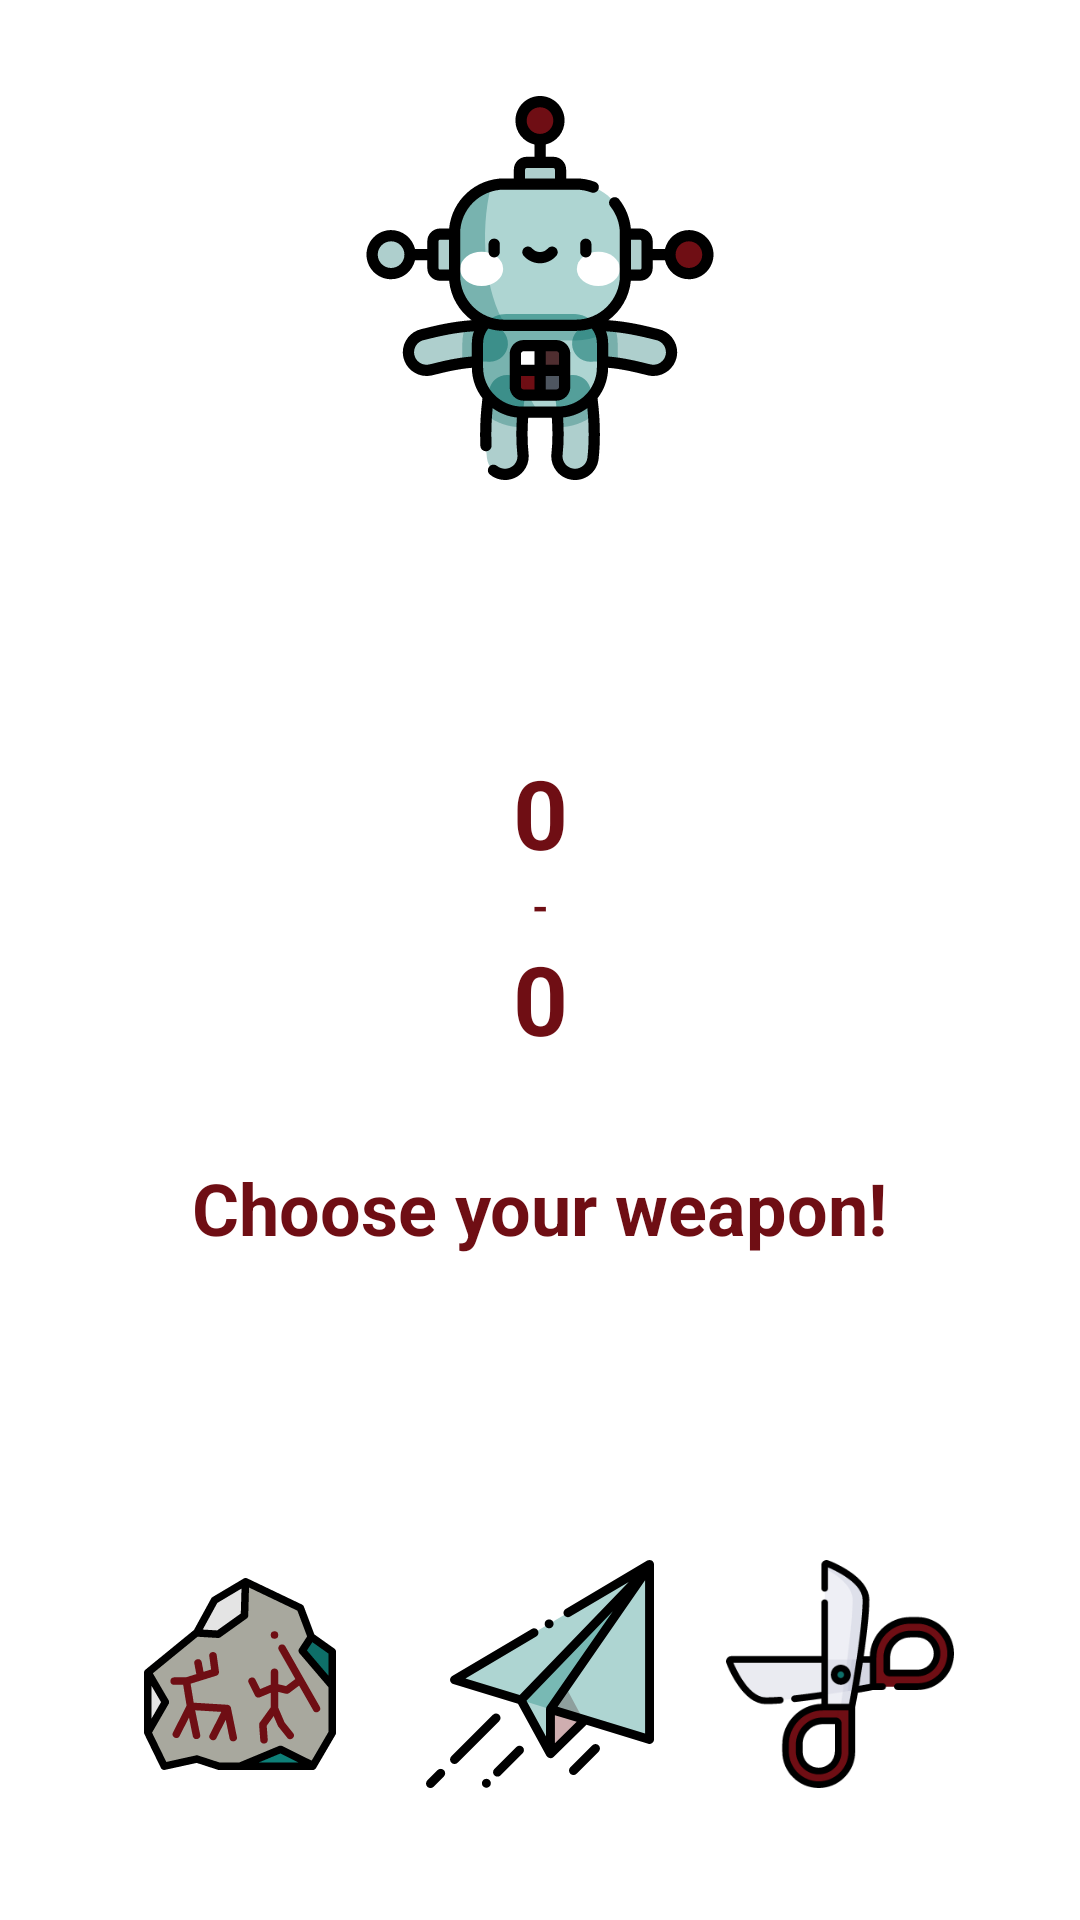

Icons on this 1080w x 1920h Android screen, each with its box as (x1, y1, x2, y2):
paper: (426, 1560, 654, 1788)
rock: (144, 1578, 336, 1770)
scissors: (726, 1560, 954, 1788)
